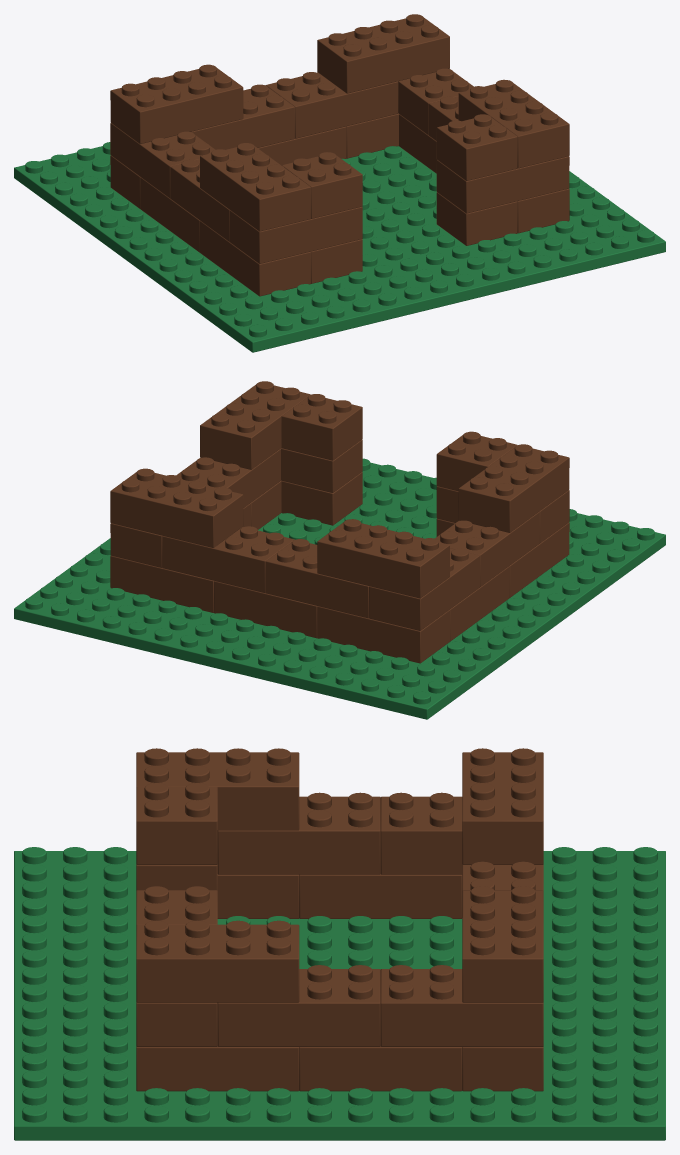
Rendered from HouseEra1_1.fbx.
3 views of the same model, one above another, from view 1: azimuth 30°, elevation 25°; view 2: azimuth 150°, elevation 25°; view 3: azimuth 270°, elevation 25° (orthographic). The views are drawn at different scales.
Parts seen in each view (by area): view 1: 00001_91405.dat, 00019_3001.dat, 00020_3001.dat, 00021_3001.dat, 00022_3001.dat, 00017_3001.dat, 00012_3001.dat, 00011_3001.dat, 00024_3003.dat, 00018_3001.dat, 00006_3001.dat, 00016_3001.dat (+12 smaller); view 2: 00001_91405.dat, 00020_3001.dat, 00019_3001.dat, 00021_3001.dat, 00022_3001.dat, 00017_3001.dat, 00018_3001.dat, 00003_3001.dat, 00024_3003.dat, 00016_3001.dat, 00015_3001.dat, 00002_3001.dat (+10 smaller); view 3: 00001_91405.dat, 00022_3001.dat, 00015_3001.dat, 00014_3001.dat, 00013_3001.dat, 00021_3001.dat, 00020_3001.dat, 00019_3001.dat, 00005_3001.dat, 00007_3001.dat, 00008_3001.dat, 00016_3001.dat (+7 smaller).
Boxes of the visible parts, x1=… form: 00001_91405.dat: x1=14, y1=142, x2=665, y2=352; 00019_3001.dat: x1=110, y1=64, x2=243, y2=143; 00020_3001.dat: x1=317, y1=14, x2=449, y2=93; 00021_3001.dat: x1=200, y1=143, x2=310, y2=231; 00022_3001.dat: x1=458, y1=79, x2=569, y2=168; 00017_3001.dat: x1=265, y1=72, x2=398, y2=138; 00012_3001.dat: x1=436, y1=156, x2=569, y2=213; 00011_3001.dat: x1=230, y1=206, x2=362, y2=263; 00024_3003.dat: x1=436, y1=114, x2=517, y2=180; 00018_3001.dat: x1=191, y1=84, x2=294, y2=149; 00006_3001.dat: x1=200, y1=221, x2=310, y2=296; 00016_3001.dat: x1=110, y1=123, x2=215, y2=197; 00001_91405.dat: x1=14, y1=458, x2=665, y2=719; 00020_3001.dat: x1=110, y1=468, x2=243, y2=547; 00019_3001.dat: x1=317, y1=519, x2=449, y2=598; 00021_3001.dat: x1=458, y1=444, x2=569, y2=532; 00022_3001.dat: x1=200, y1=381, x2=310, y2=469; 00017_3001.dat: x1=162, y1=526, x2=294, y2=592; 00018_3001.dat: x1=265, y1=539, x2=368, y2=618; 00003_3001.dat: x1=317, y1=606, x2=449, y2=663; 00024_3003.dat: x1=281, y1=394, x2=362, y2=460; 00016_3001.dat: x1=369, y1=548, x2=479, y2=630; 00015_3001.dat: x1=435, y1=512, x2=539, y2=586; 00002_3001.dat: x1=214, y1=581, x2=317, y2=638; 00001_91405.dat: x1=14, y1=847, x2=665, y2=1140; 00022_3001.dat: x1=136, y1=920, x2=299, y2=1002; 00015_3001.dat: x1=217, y1=792, x2=380, y2=874; 00014_3001.dat: x1=380, y1=965, x2=543, y2=1046; 00013_3001.dat: x1=217, y1=965, x2=380, y2=1046; 00021_3001.dat: x1=136, y1=748, x2=299, y2=830; 00020_3001.dat: x1=462, y1=886, x2=543, y2=1002; 00019_3001.dat: x1=462, y1=748, x2=543, y2=864; 00005_3001.dat: x1=299, y1=874, x2=462, y2=918; 00007_3001.dat: x1=136, y1=1046, x2=299, y2=1091; 00008_3001.dat: x1=299, y1=1046, x2=462, y2=1091; 00016_3001.dat: x1=380, y1=792, x2=462, y2=874.
Bounding box in the file's own units: 1280 × 1280 × 336.
